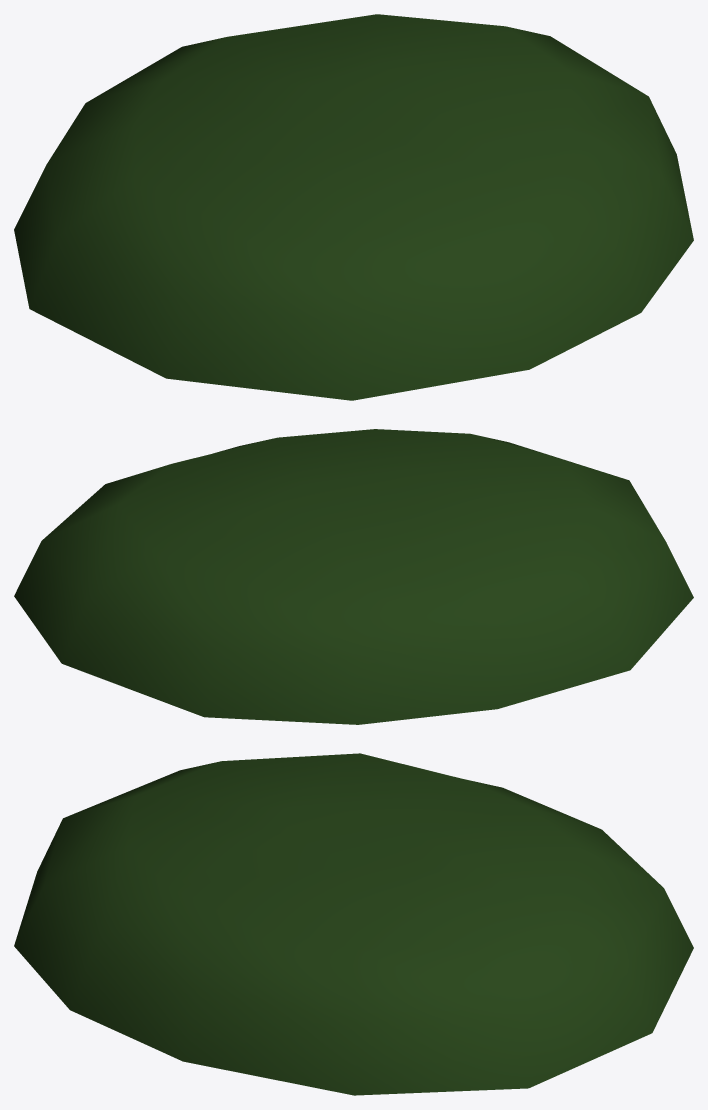
The model's file is motte1_01.FBX.
The picture shows the model from 3 angles, top to bottom: view 1: azimuth 30°, elevation 25°; view 2: azimuth 150°, elevation 25°; view 3: azimuth 270°, elevation 25°; orthographic projection. The views are drawn at different scales.
Visible parts, largest first — view 1: motte1_01; view 2: motte1_01; view 3: motte1_01.
Boxes of the visible parts, box(x1,y1,x2,y2) form: motte1_01: box(14, 14, 693, 400); motte1_01: box(14, 429, 693, 724); motte1_01: box(14, 753, 693, 1095).
Bounding box in the file's own units: 12.71 × 2.28 × 12.57.
